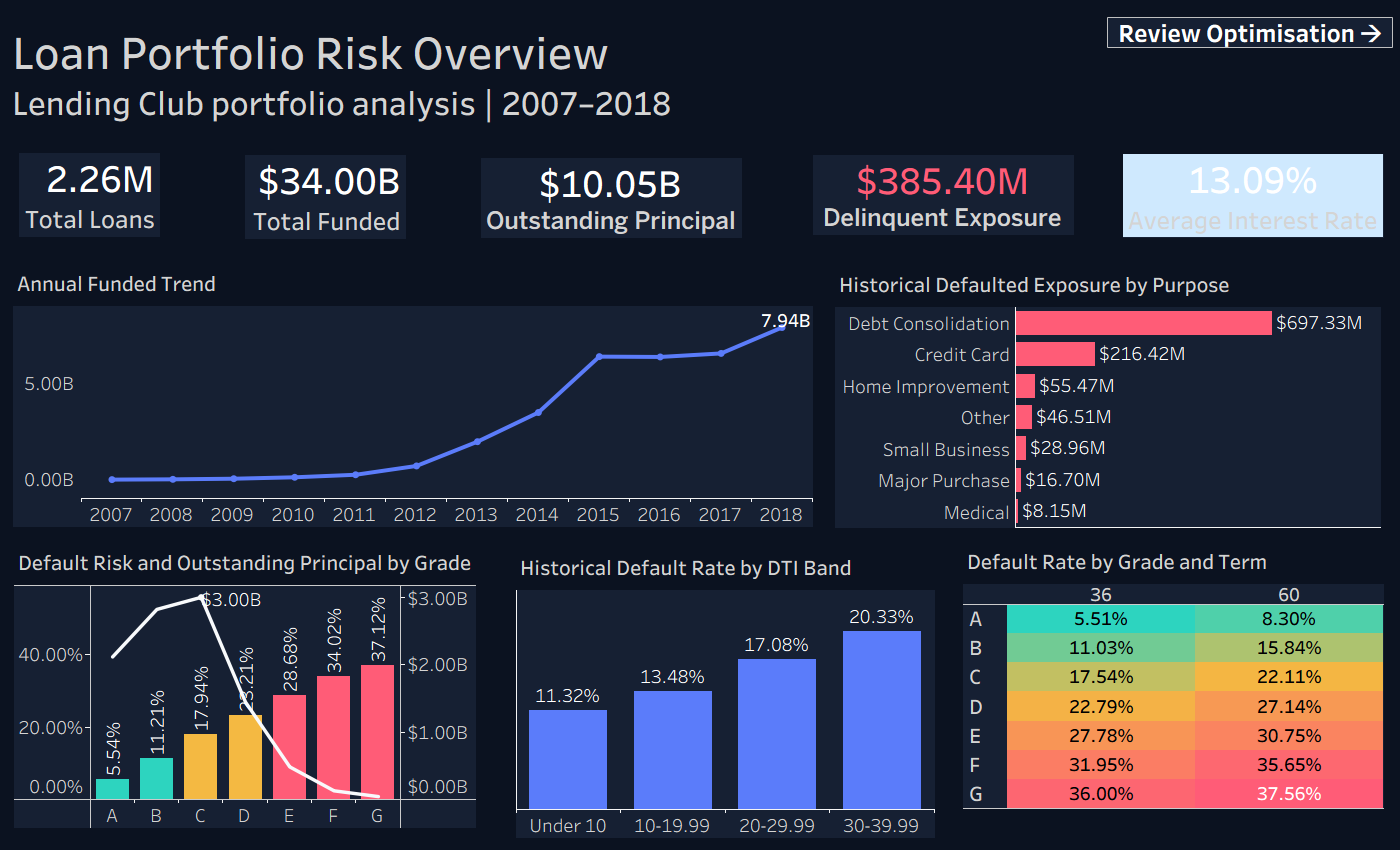

The dashboard page shown, as its layout file describes it:
{"tool":"tableau","page":{"name":"Portfolio Risk Overview","canvas":[1400,850],"ordinal":1},"visuals":[{"type":"text","box":[8,8,801,129]},{"type":"dashboard-object","box":[1107,17,286,31]},{"type":"worksheet","title":"KPI - Average Interest Rate","mark":"Automatic","box":[1123,139,262,115]},{"type":"worksheet","title":"KPI - Total Funded","mark":"Automatic","box":[245,140,262,115]},{"type":"worksheet","title":"Delinquent Exposure","mark":"Automatic","box":[813,140,262,115]},{"type":"worksheet","title":"KPI - Outstanding Principal","mark":"Automatic","box":[481,143,262,115]},{"type":"worksheet","title":"KPI - Total Loans","mark":"Automatic","box":[19,153,262,115]},{"type":"worksheet","title":"Annual Funded Trend","mark":"Line","rows":["total_funded_amount"],"cols":["issue_year"],"box":[13,263,799,264]},{"type":"worksheet","title":"Defaulted Exposure by Purpose","mark":"Bar","rows":["purpose"],"cols":["defaulted_funded_exposure"],"box":[835,264,545,263]},{"type":"worksheet","title":"Grade and Term Heatmap","mark":"Square","rows":["grade"],"cols":["term_months"],"box":[963,541,421,268]},{"type":"worksheet","title":"Default Rate by Grade","mark":"Automatic","rows":["historical_default_rate","outstanding_principal"],"cols":["grade"],"box":[14,542,463,287]},{"type":"worksheet","title":"Default Rate by DTI","mark":"Automatic","rows":["historical_default_rate"],"cols":["dti_band"],"box":[516,547,418,291]}]}

Visuals, with their boxes in screenshot pixels (x1, y1, x2, y2), scaled from the page's 1400x850 canvas onto the 1400x850 screenshot:
text: <region>8, 8, 809, 137</region>
dashboard-object: <region>1107, 17, 1393, 48</region>
"KPI - Average Interest Rate" worksheet: <region>1123, 139, 1385, 254</region>
"KPI - Total Funded" worksheet: <region>245, 140, 507, 255</region>
"Delinquent Exposure" worksheet: <region>813, 140, 1075, 255</region>
"KPI - Outstanding Principal" worksheet: <region>481, 143, 743, 258</region>
"KPI - Total Loans" worksheet: <region>19, 153, 281, 268</region>
"Annual Funded Trend" worksheet (Line marks): <region>13, 263, 812, 527</region>
"Defaulted Exposure by Purpose" worksheet (Bar marks): <region>835, 264, 1380, 527</region>
"Grade and Term Heatmap" worksheet (Square marks): <region>963, 541, 1384, 809</region>
"Default Rate by Grade" worksheet: <region>14, 542, 477, 829</region>
"Default Rate by DTI" worksheet: <region>516, 547, 934, 838</region>
